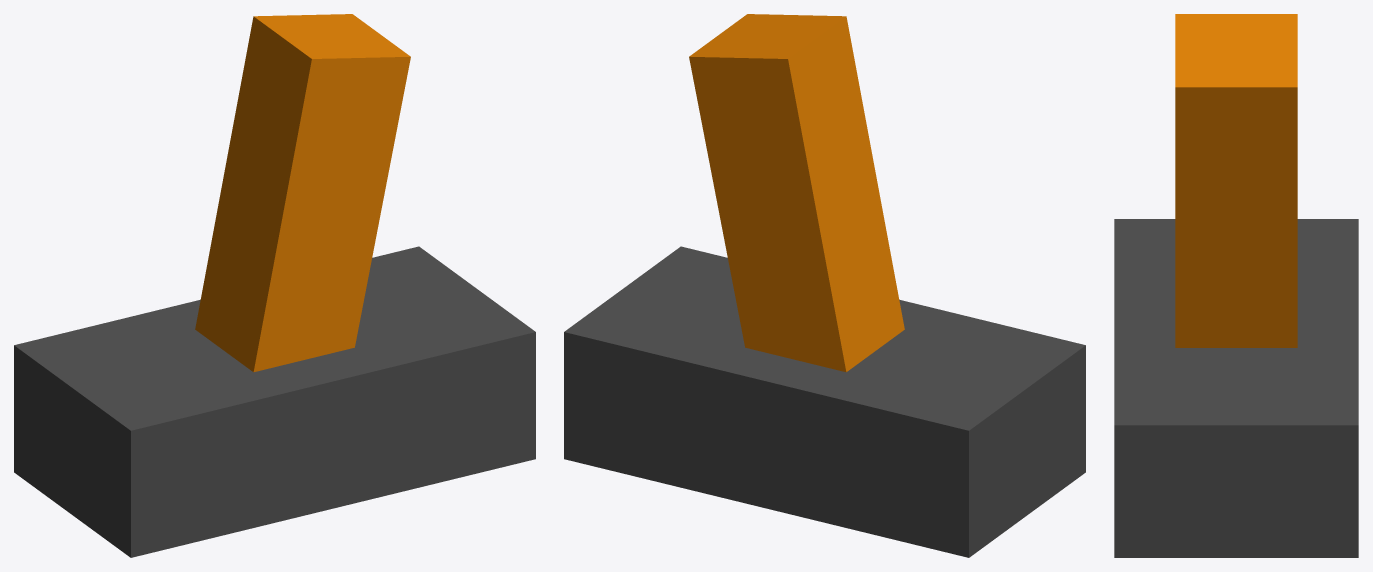
File: lever.fbx
3 renders of one model, left to right at view 1: azimuth 30°, elevation 25°; view 2: azimuth 150°, elevation 25°; view 3: azimuth 270°, elevation 25°, orthographic. The views are drawn at different scales.
Parts seen in each view (by area): view 1: Cube; view 2: Cube; view 3: Cube.
Part boxes in pixels (box(x1,y1,x2,y2)): Cube: box(14, 14, 535, 557); Cube: box(564, 14, 1085, 557); Cube: box(1114, 14, 1358, 557).
Bounding box in the file's own units: 1000 × 1006 × 500.
